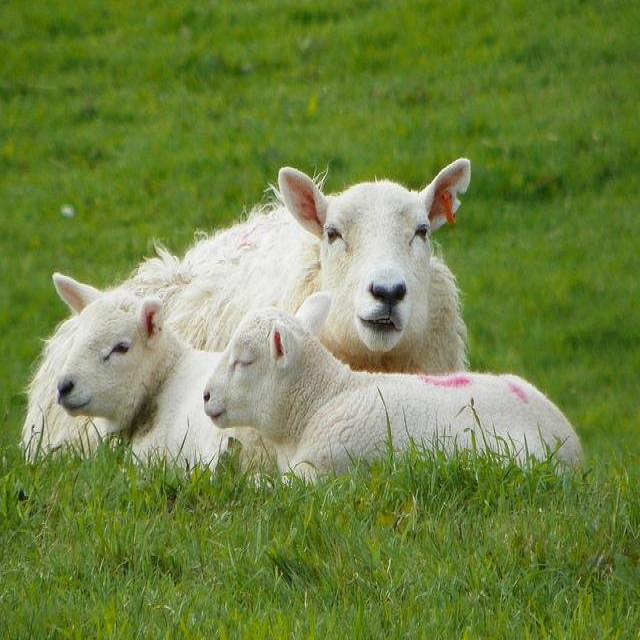Sheep: (21, 156, 473, 461), (205, 295, 585, 489), (51, 268, 298, 485)
